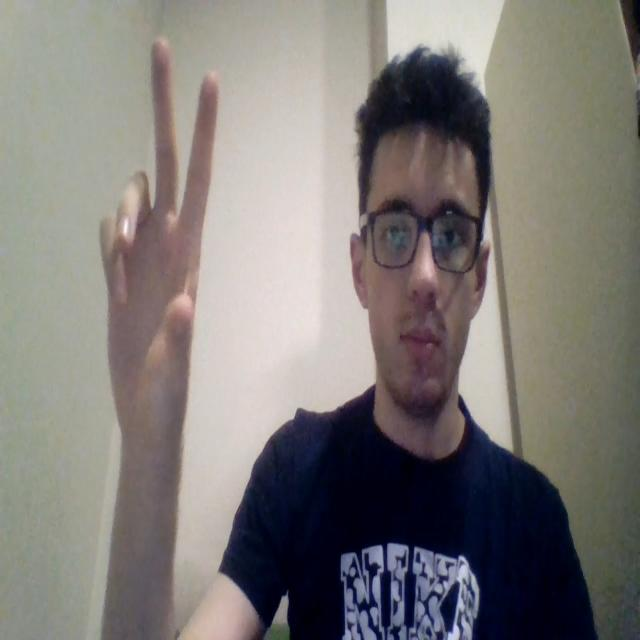no: (99, 34, 220, 437)
